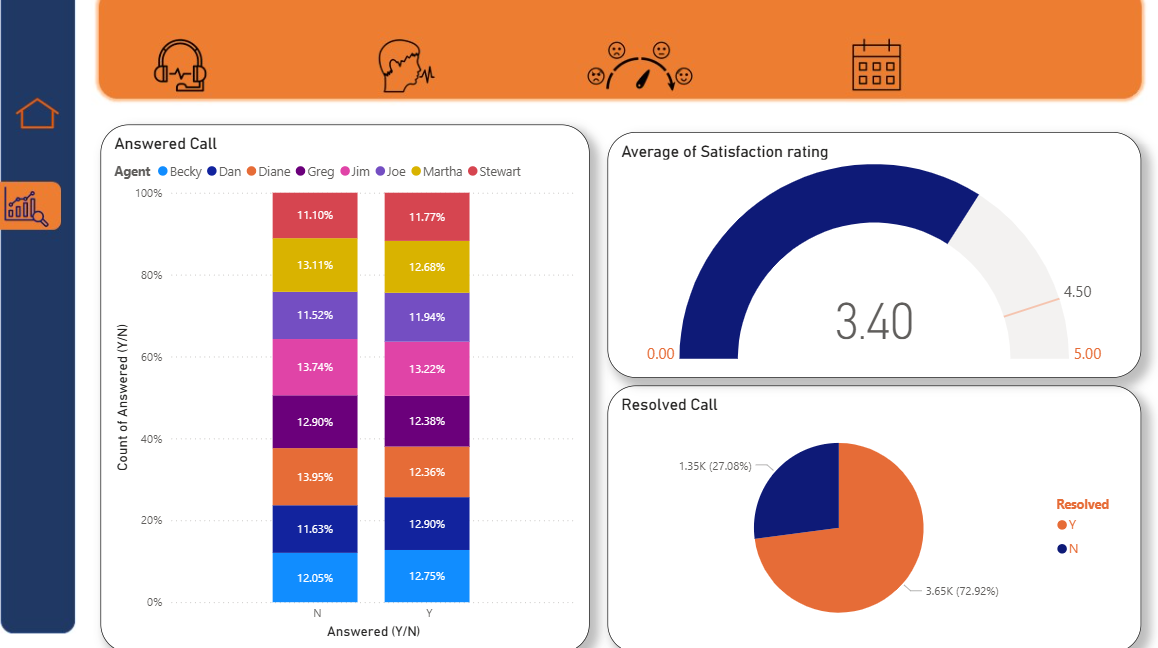

This screenshot's page, from the dashboard's own definition file:
{"tool":"powerbi","page":{"name":"Page 2","canvas":[1280,720],"ordinal":1},"visuals":[{"type":"gauge","fields":{"Y":["Sheet1.Satisfaction rating"]},"box":[676,168.6,566.3,260.9],"z":0},{"type":"hundredPercentStackedColumnChart","title":" Answered Call","fields":{"Category":["Sheet1.Answered (Y/N)","Sheet1.month"],"Y":["Sheet1.Answered (Y/N)"],"Series":["Sheet1.Agent"]},"box":[138.4,160.7,518.5,559.9],"z":1000},{"type":"pieChart","title":"Resolved Call","fields":{"Category":["Sheet1.Resolved"],"Y":["Sheet1.Resolved"]},"box":[676,437.4,566.3,283.1],"z":2000}]}

Visuals, with their boxes on the page's 1280x720 design canvas (x1, y1, x2, y2). These are canvas units, not pixel positions in the 1158x648 screenshot, which may show the page scaled, cropped or inside an application window:
gauge - Sheet1.Satisfaction rating: <box>676,169,1242,430</box>
" Answered Call" hundredPercentStackedColumnChart: <box>138,161,657,721</box>
"Resolved Call" pieChart: <box>676,437,1242,720</box>
